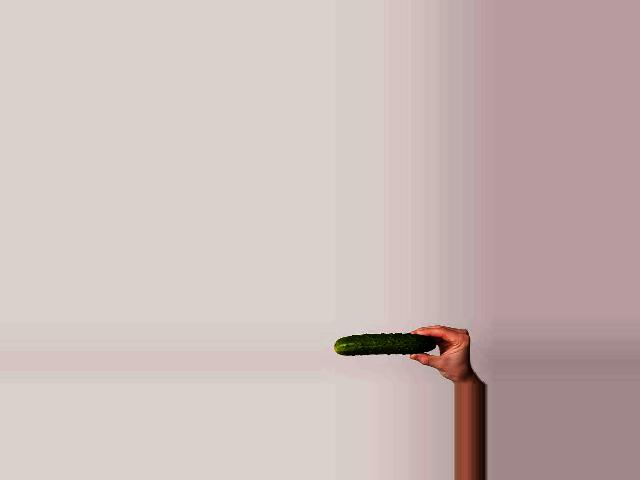cucumber: (335, 333, 436, 354)
